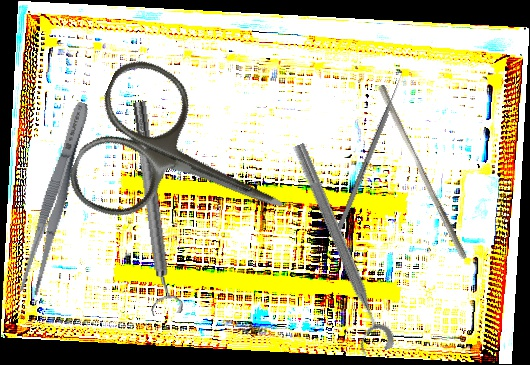Dressing Forceps: (16, 99, 95, 297)
Fixation Ring: (275, 139, 398, 361), (123, 99, 185, 317)
Iris Scissors: (59, 49, 315, 280)
Pusher: (371, 83, 475, 261), (336, 71, 406, 231)
